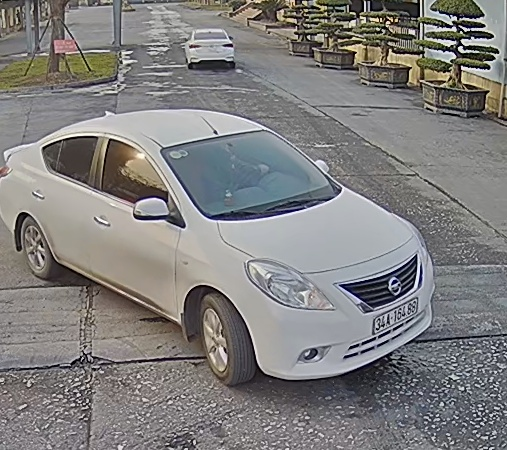vehicle plate: (362, 300, 427, 336)
